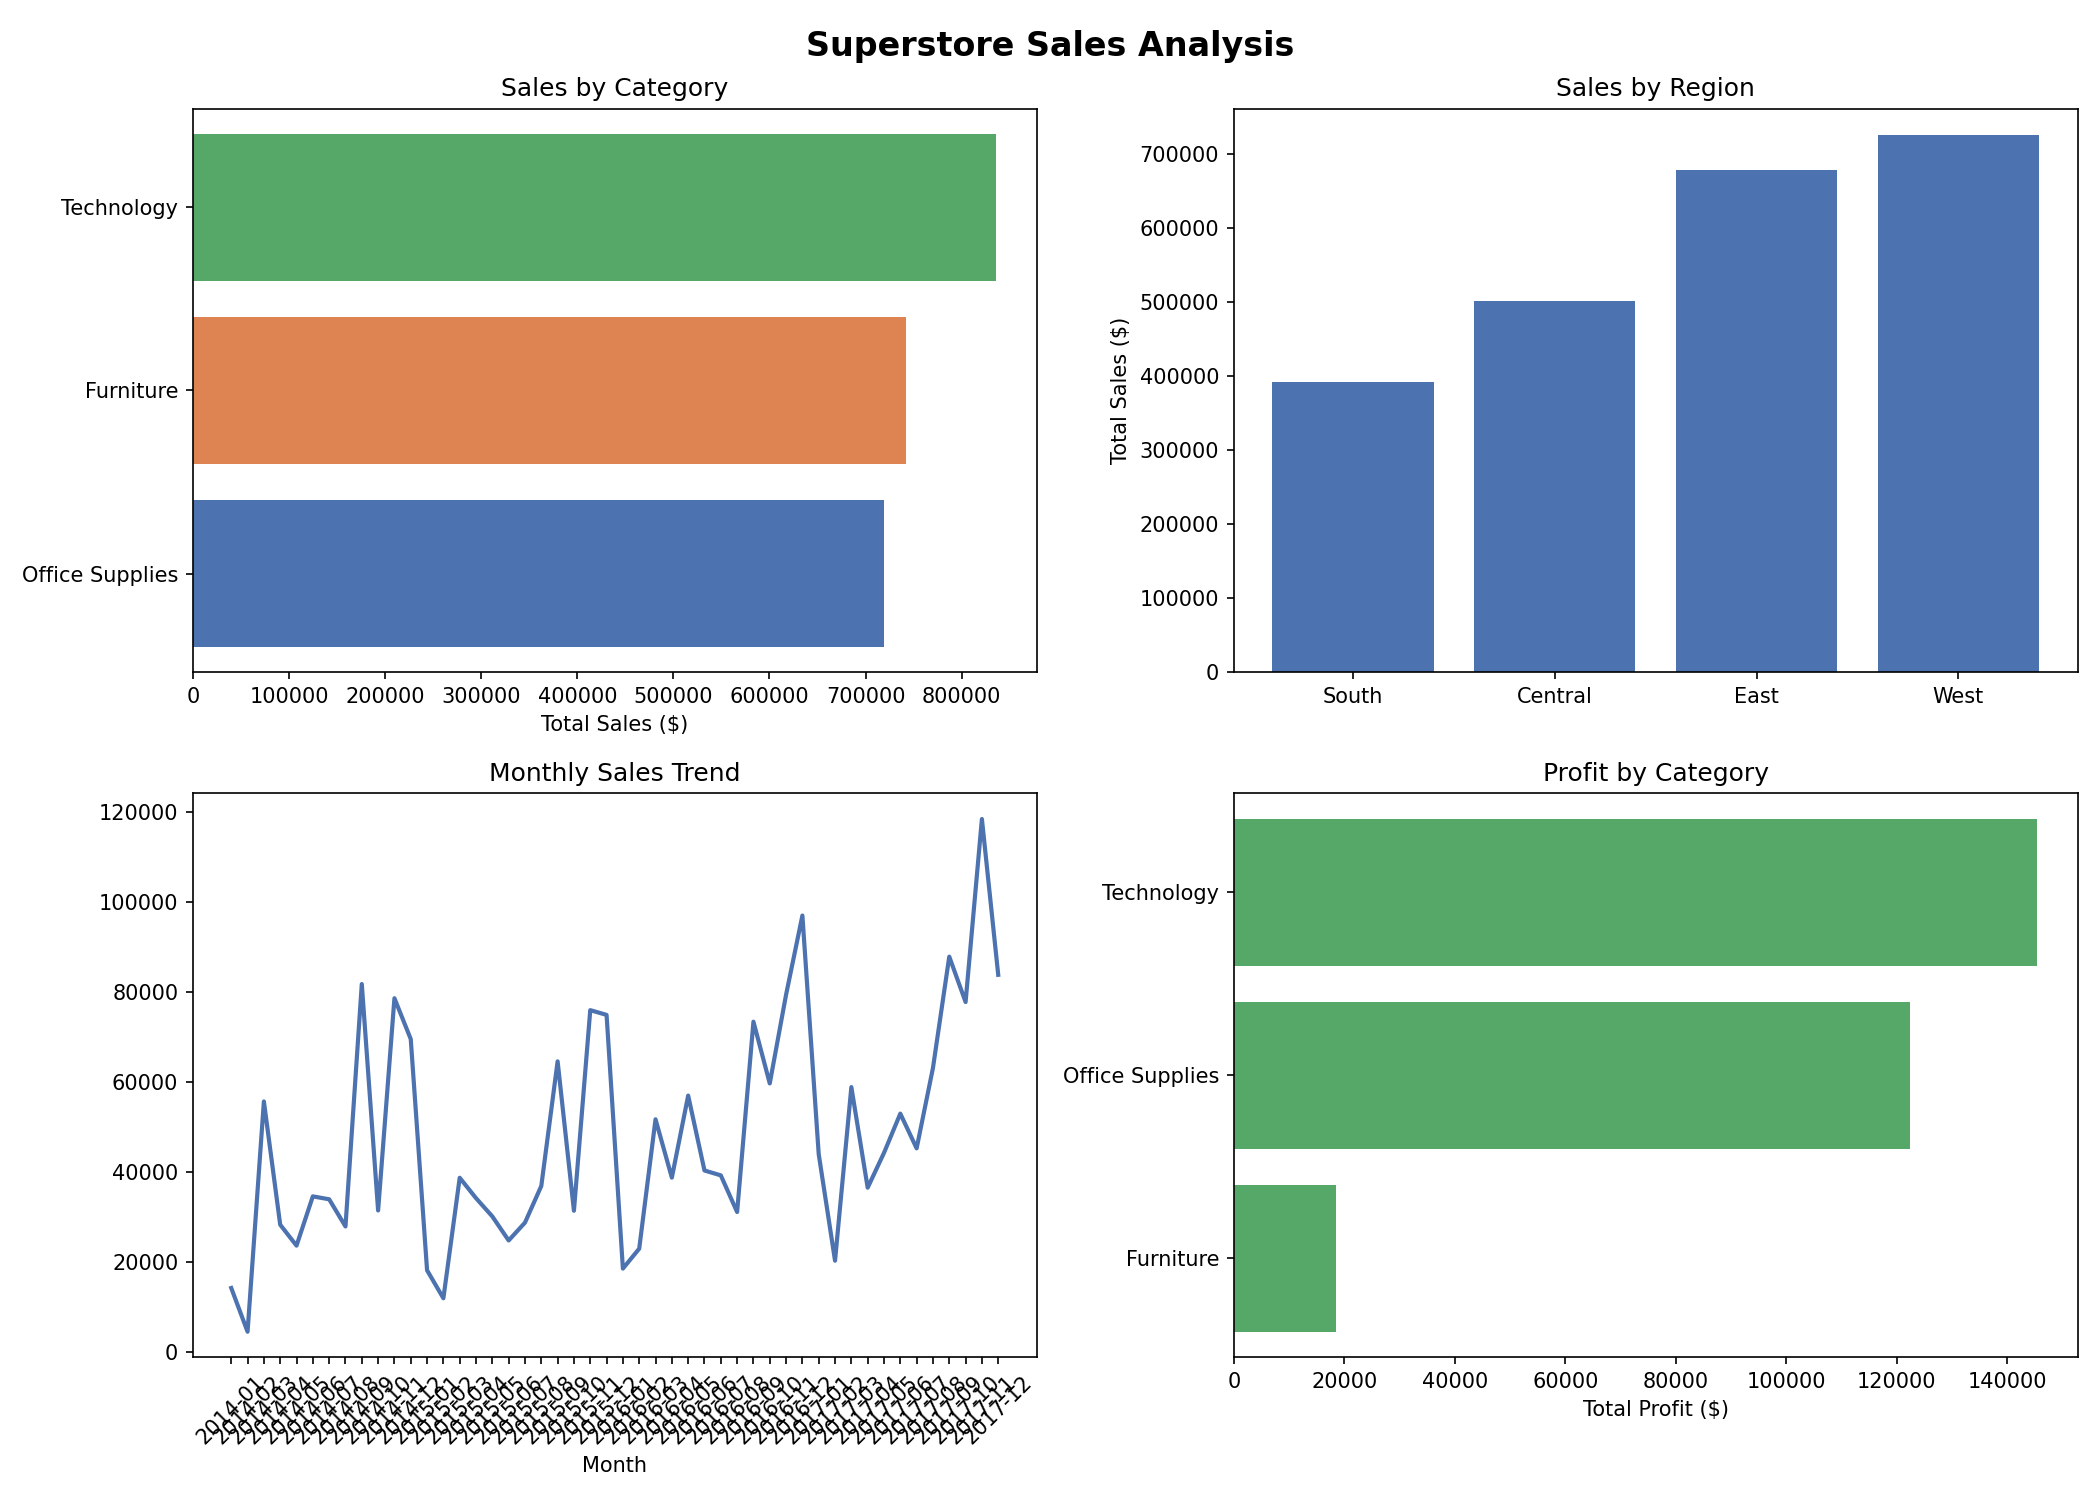

Layout of this report page (visuals, bound fields, positions):
{"tool":"powerbi","page":{"name":"Page 1","canvas":[1280,720],"ordinal":0},"visuals":[{"type":"clusteredBarChart","fields":{"Category":["clean_sales.category"],"Y":["Sum(clean_sales.sales)"]},"box":[10.1,65.5,554.3,359.5],"z":0},{"type":"clusteredColumnChart","fields":{"Category":["clean_sales.region"],"Y":["Sum(clean_sales.sales)"]},"box":[10.1,425,666.9,295.6],"z":1000},{"type":"lineChart","fields":{"Category":["clean_sales.order_date.Variation.Date Hierarchy.Year","clean_sales.order_date.Variation.Date Hierarchy.Quarter","clean_sales.order_date.Variation.Date Hierarchy.Month","clean_sales.order_date.Variation.Date Hierarchy.Day"],"Y":["Sum(clean_sales.sales)"]},"box":[618.2,65.5,581.2,294],"z":2000},{"type":"clusteredBarChart","fields":{"Category":["clean_sales.category"],"Y":["Sum(clean_sales.profit)"]},"box":[677,376.3,566.1,344.4],"z":3000},{"type":"textbox","box":[305.7,0,623.2,65.5],"z":4000}]}

Visuals, with their boxes in screenshot pixels (x1, y1, x2, y2):
clusteredBarChart - clean_sales.category x Sum(clean_sales.sales): region(185, 108, 1050, 669)
clusteredColumnChart - clean_sales.region x Sum(clean_sales.sales): region(185, 669, 1226, 1130)
lineChart - clean_sales.order_date.Variation.Date Hierarchy.Year x clean_sales.order_date.Variation.Date Hierarchy.Quarter: region(1134, 108, 2041, 567)
clusteredBarChart - clean_sales.category x Sum(clean_sales.profit): region(1226, 593, 2099, 1130)
textbox: region(647, 5, 1619, 108)
